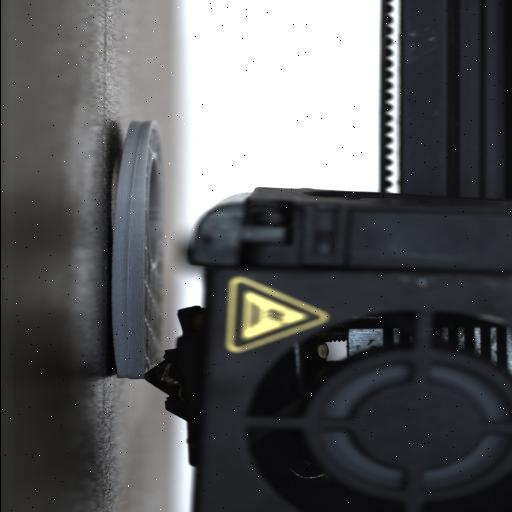warp: (105, 314, 130, 382)
